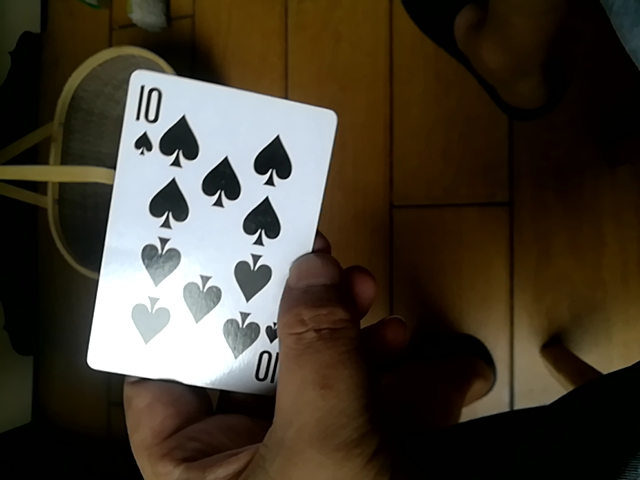ht 10: (89, 63, 332, 403)
